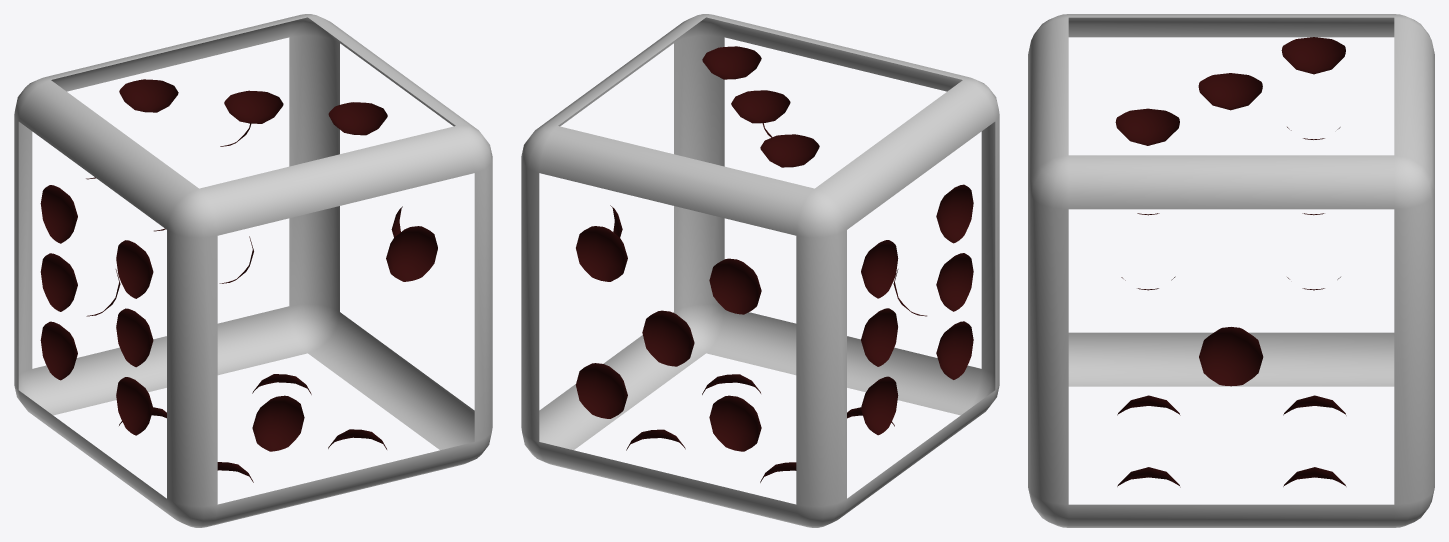
The model's file is CUB_new.dae.
The picture shows the model from 3 angles, left to right: view 1: azimuth 30°, elevation 25°; view 2: azimuth 150°, elevation 25°; view 3: azimuth 270°, elevation 25°; orthographic projection. The views are drawn at different scales.
Visible parts, largest first — view 1: cub; view 2: cub; view 3: cub.
Part boxes in pixels (x1,y1,x2,y2): cub: (14, 14, 492, 527); cub: (521, 14, 999, 527); cub: (1028, 14, 1434, 527).
Bounding box in the file's own units: 20 × 20 × 20.
